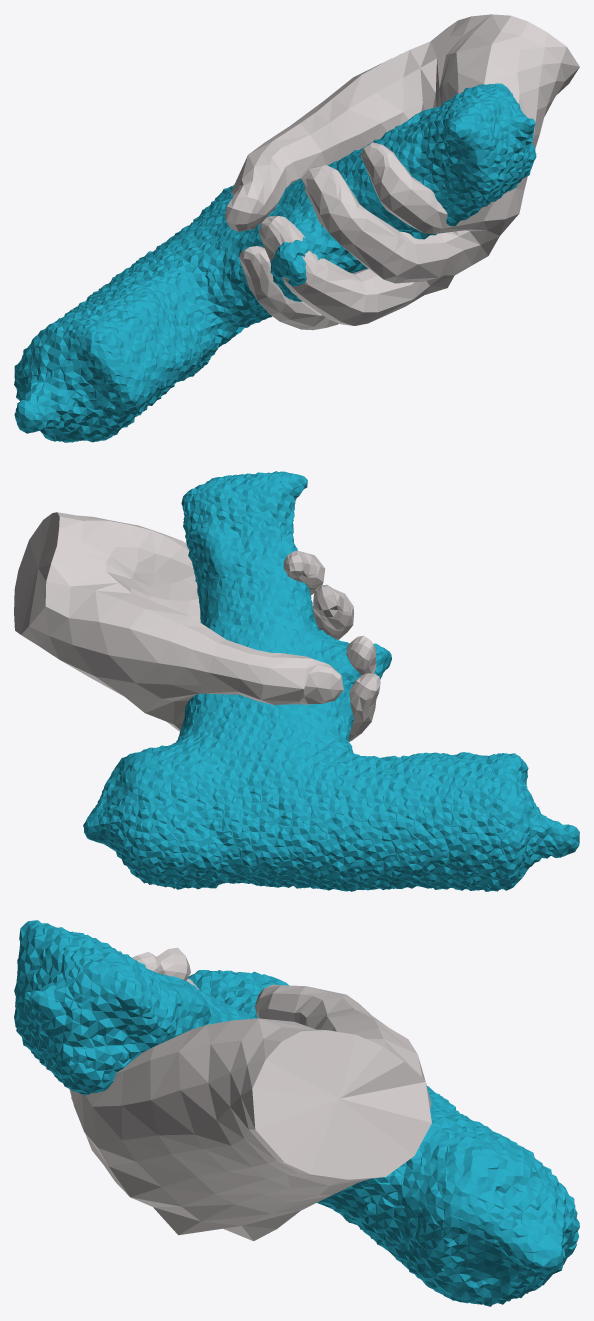
3 views of the same model, one above another, from view 1: azimuth 30°, elevation 25°; view 2: azimuth 150°, elevation 25°; view 3: azimuth 270°, elevation 25° (orthographic). The views are drawn at different scales.
Visible parts, largest first — view 1: world; view 2: world; view 3: world.
Part boxes in pixels (<box>): world: <box>14,14,579,442</box>; world: <box>14,471,579,891</box>; world: <box>14,920,579,1306</box>.
Bounding box in the file's own units: 0.252 × 0.1297 × 0.1634.
